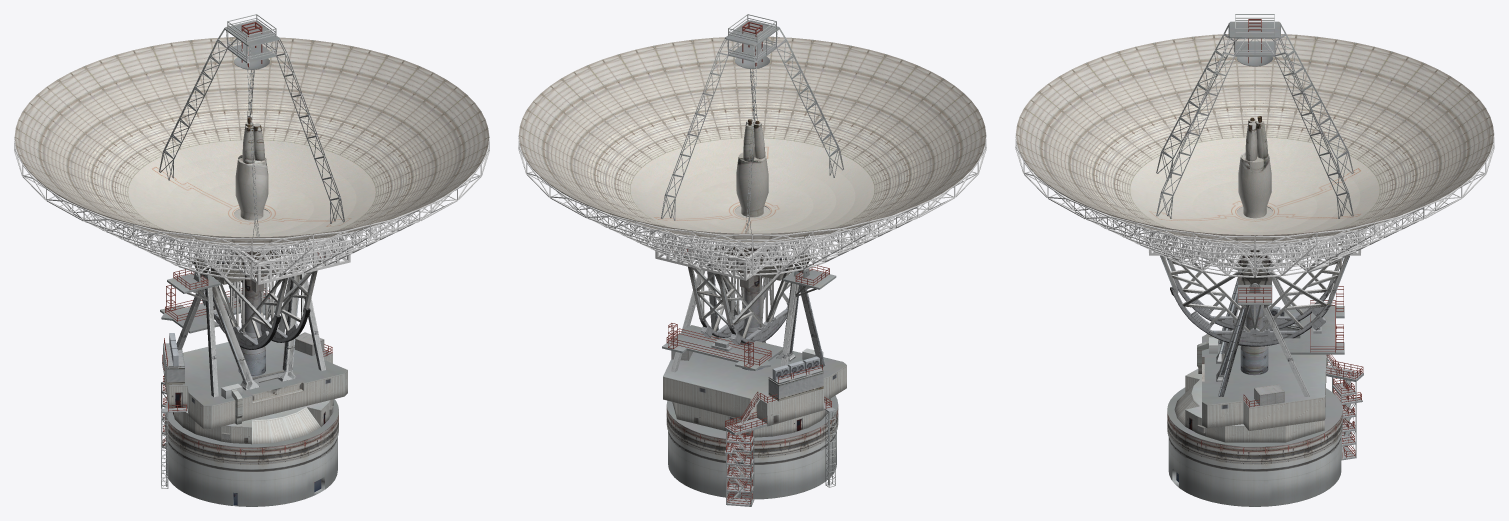
The model's file is Deep Space Network 70-meter Antenna.glb.
The picture shows the model from 3 angles, left to right: view 1: azimuth 30°, elevation 25°; view 2: azimuth 150°, elevation 25°; view 3: azimuth 270°, elevation 25°; orthographic projection. The views are drawn at different scales.
Parts seen in each view (by area): view 1: dish, azimuth, dish.002, base, truss_dish, quad, truss_pendulum, collector, truss_box, rails; view 2: dish, azimuth, dish.002, base, truss_dish, truss_pendulum, quad, rails, collector, landing, truss_box; view 3: dish, azimuth, dish.002, base, truss_dish, truss_pendulum, quad, collector, rails, landing, truss_box.
Boxes of the visible parts, x1=… form: dish: x1=14, y1=37, x2=489, y2=245; azimuth: x1=160, y1=243, x2=347, y2=488; dish.002: x1=128, y1=140, x2=375, y2=237; base: x1=165, y1=399, x2=338, y2=506; truss_dish: x1=14, y1=112, x2=489, y2=279; quad: x1=159, y1=14, x2=344, y2=236; truss_pendulum: x1=190, y1=245, x2=317, y2=349; collector: x1=234, y1=117, x2=269, y2=221; truss_box: x1=208, y1=237, x2=350, y2=284; rails: x1=162, y1=242, x2=333, y2=445; dish: x1=519, y1=36, x2=985, y2=242; azimuth: x1=662, y1=239, x2=846, y2=487; dish.002: x1=630, y1=138, x2=874, y2=233; base: x1=666, y1=395, x2=838, y2=499; truss_dish: x1=518, y1=109, x2=986, y2=275; truss_pendulum: x1=688, y1=241, x2=812, y2=344; quad: x1=661, y1=14, x2=843, y2=233; rails: x1=666, y1=249, x2=831, y2=504; collector: x1=735, y1=119, x2=769, y2=218; landing: x1=724, y1=397, x2=767, y2=506; truss_box: x1=655, y1=233, x2=795, y2=280; dish: x1=1016, y1=34, x2=1493, y2=243; azimuth: x1=1174, y1=270, x2=1344, y2=442; dish.002: x1=1130, y1=137, x2=1379, y2=235; base: x1=1167, y1=387, x2=1342, y2=506; truss_dish: x1=1015, y1=109, x2=1494, y2=277; truss_pendulum: x1=1155, y1=237, x2=1354, y2=346; quad: x1=1156, y1=14, x2=1353, y2=218; collector: x1=1237, y1=116, x2=1272, y2=219; rails: x1=1238, y1=286, x2=1363, y2=458; landing: x1=1326, y1=356, x2=1363, y2=460; truss_box: x1=1148, y1=231, x2=1361, y2=255.
Bounding box in the file's own units: 70.07 × 72.93 × 70.07.
5 materials, 3 textured.
